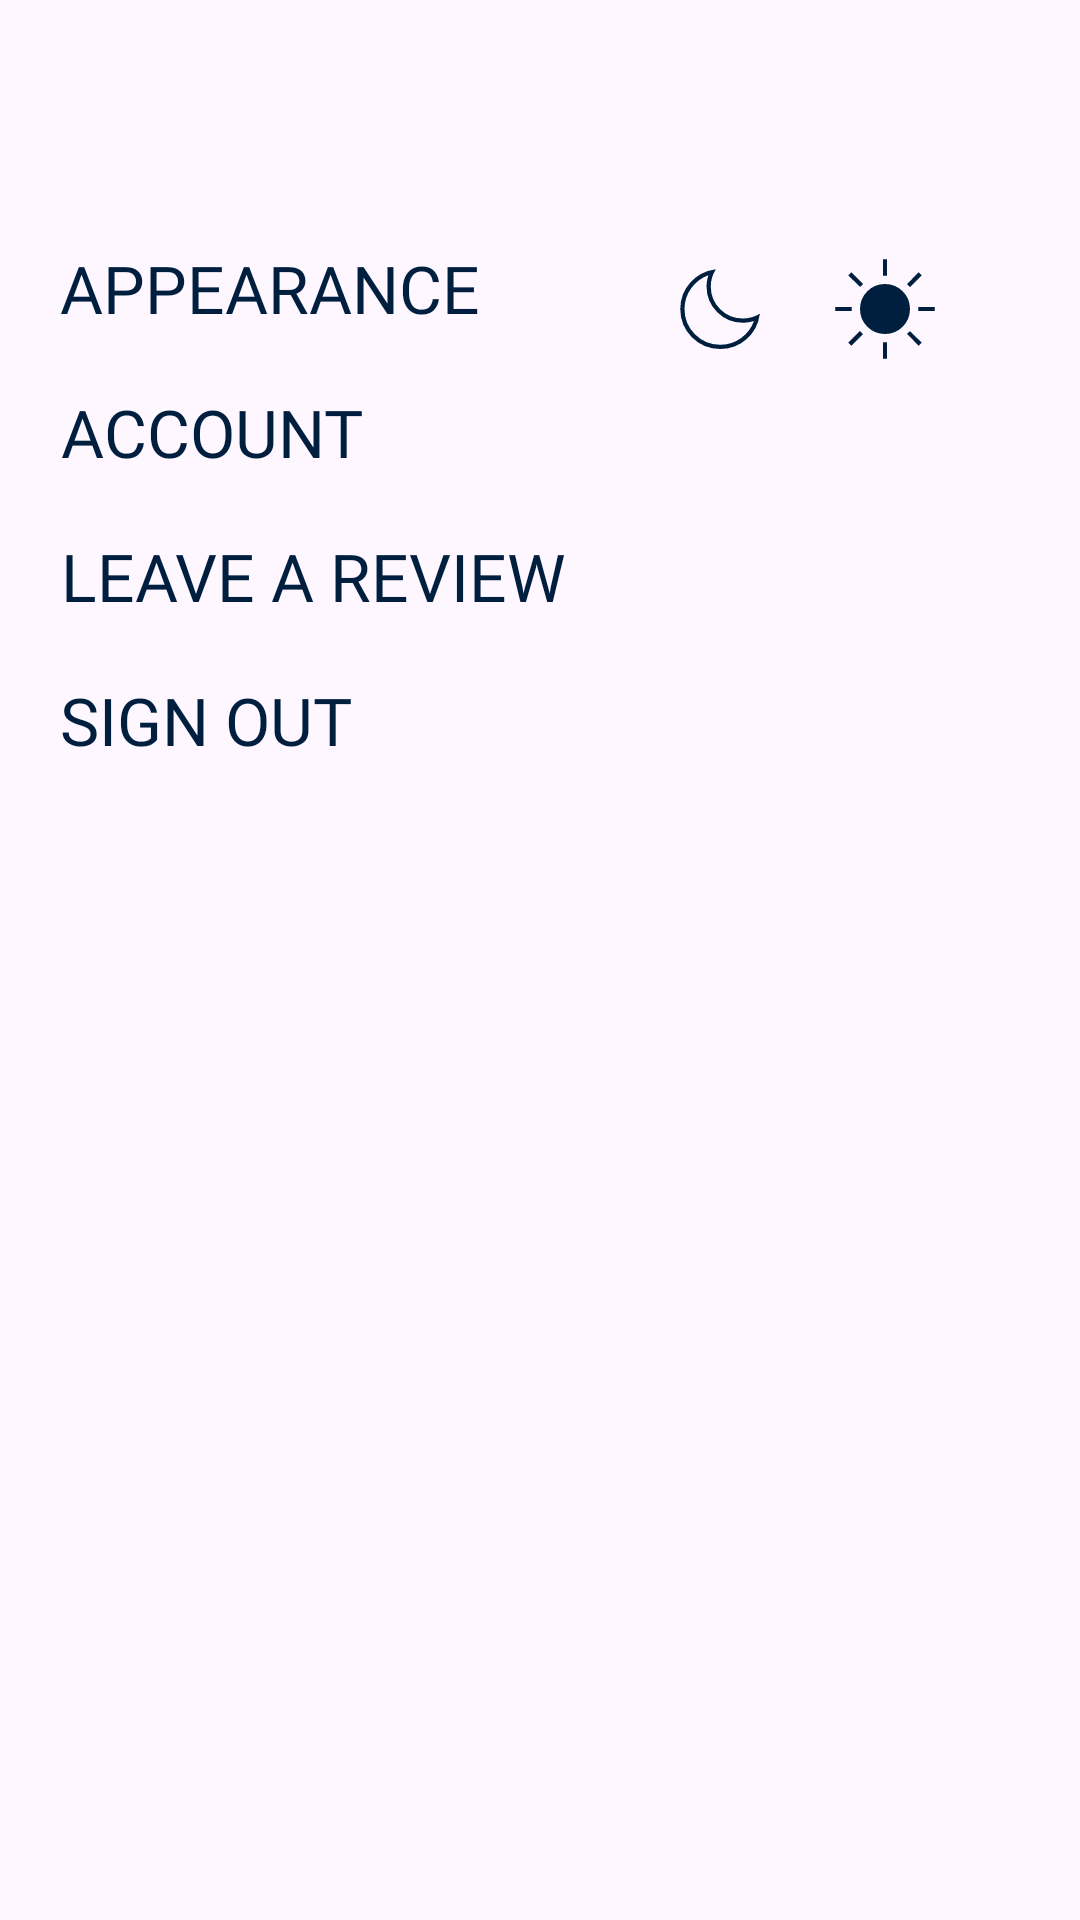

Icons on this 1080 × 1920 Android screen, each with the point to tap as [x,y]:
moon hollow: [720,309]
sunny: [885,309]
